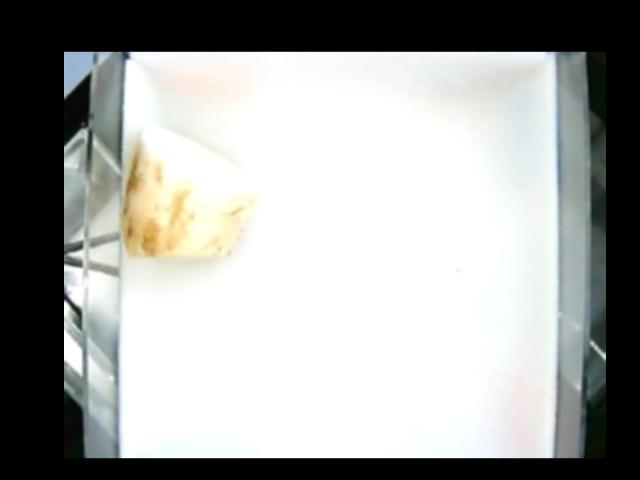Mooli: (122, 122, 261, 259)
